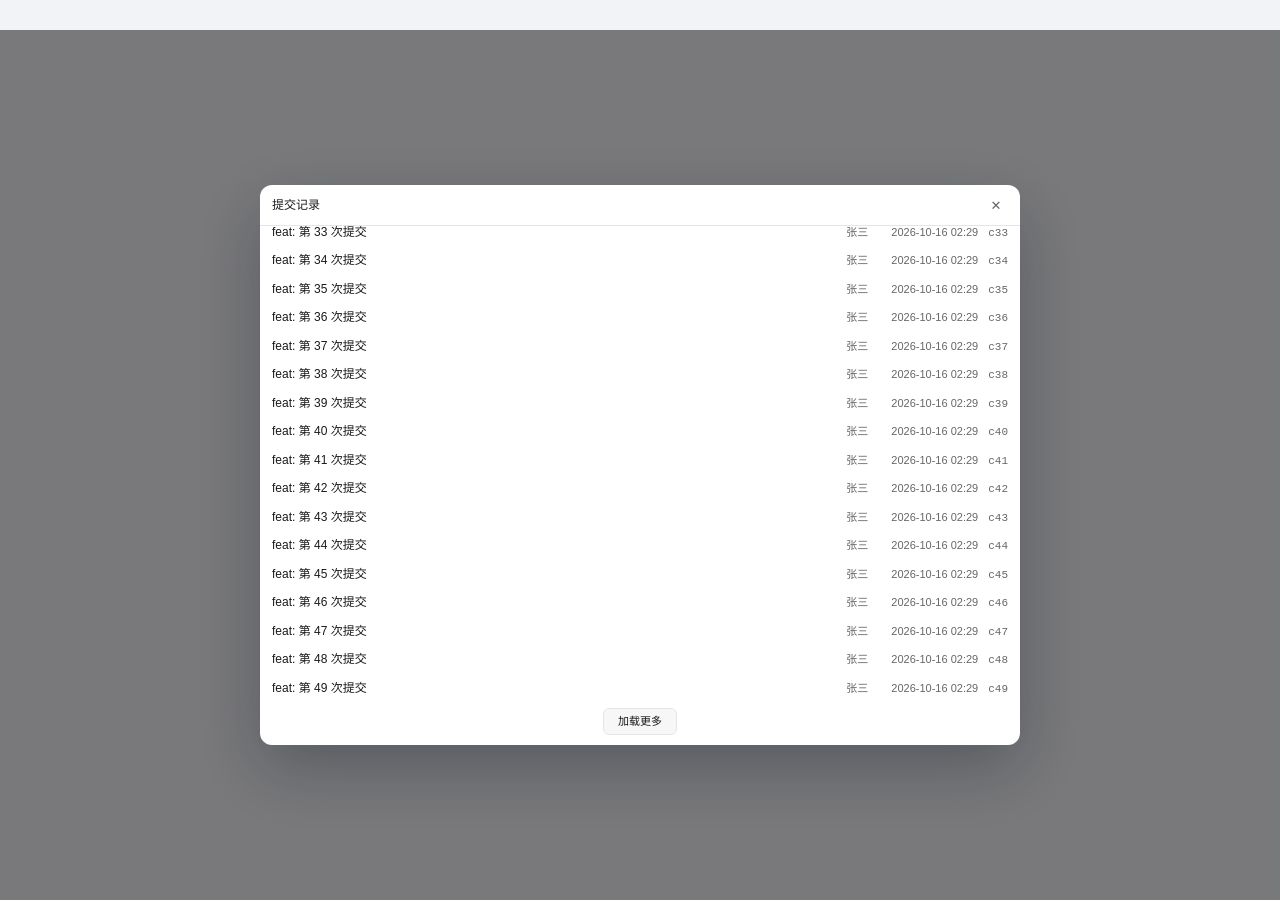
拿回整页才显示「加载更多」；点了按 skip = 已加载条数追加，不足一页即收掉
This screenshot has width=1280, height=900.
(page scrolled)
Step 1. Click the button with class "git-log-more" → (640, 721), box [603,708,677,734]
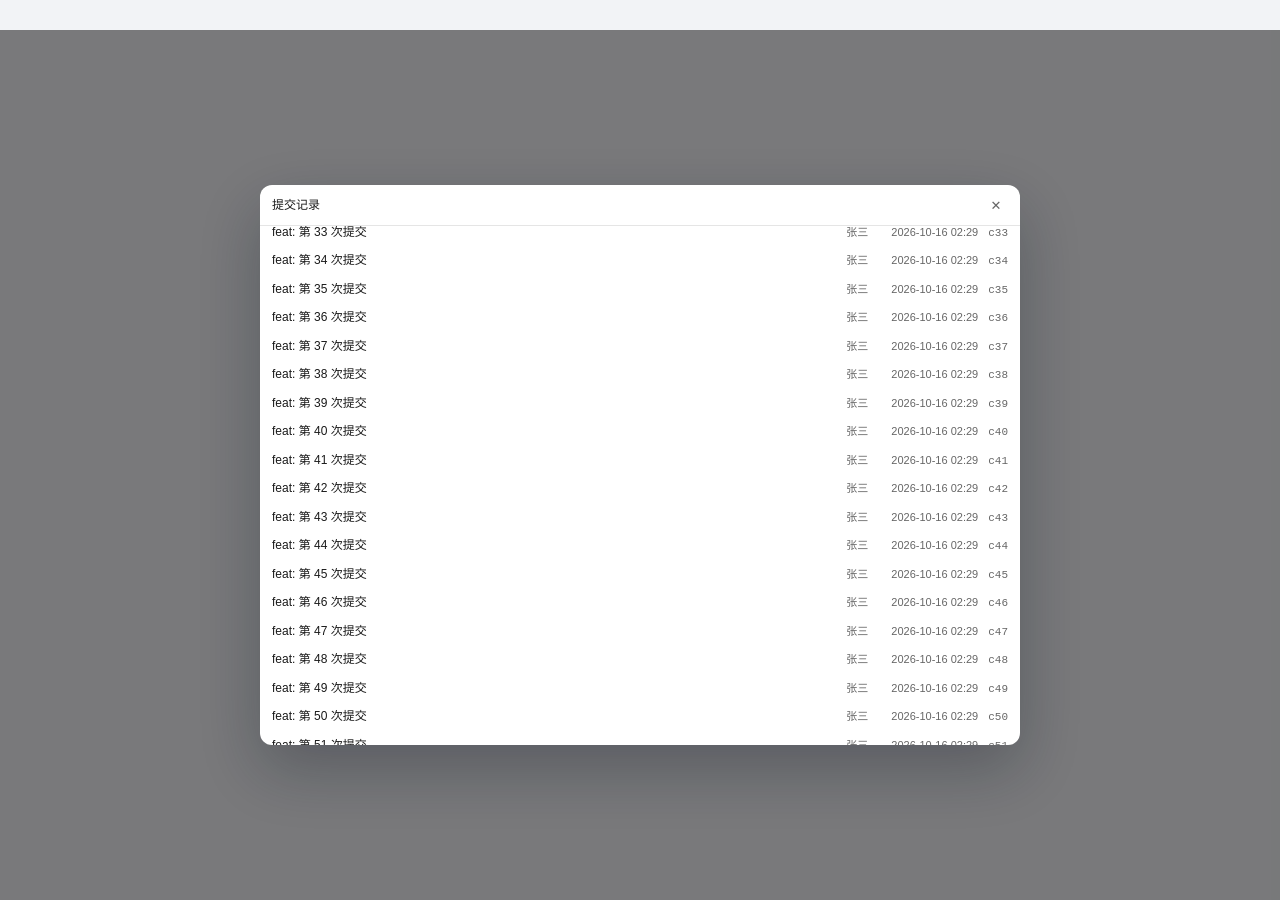
expect the button with class "git-log-more" is gone: met
